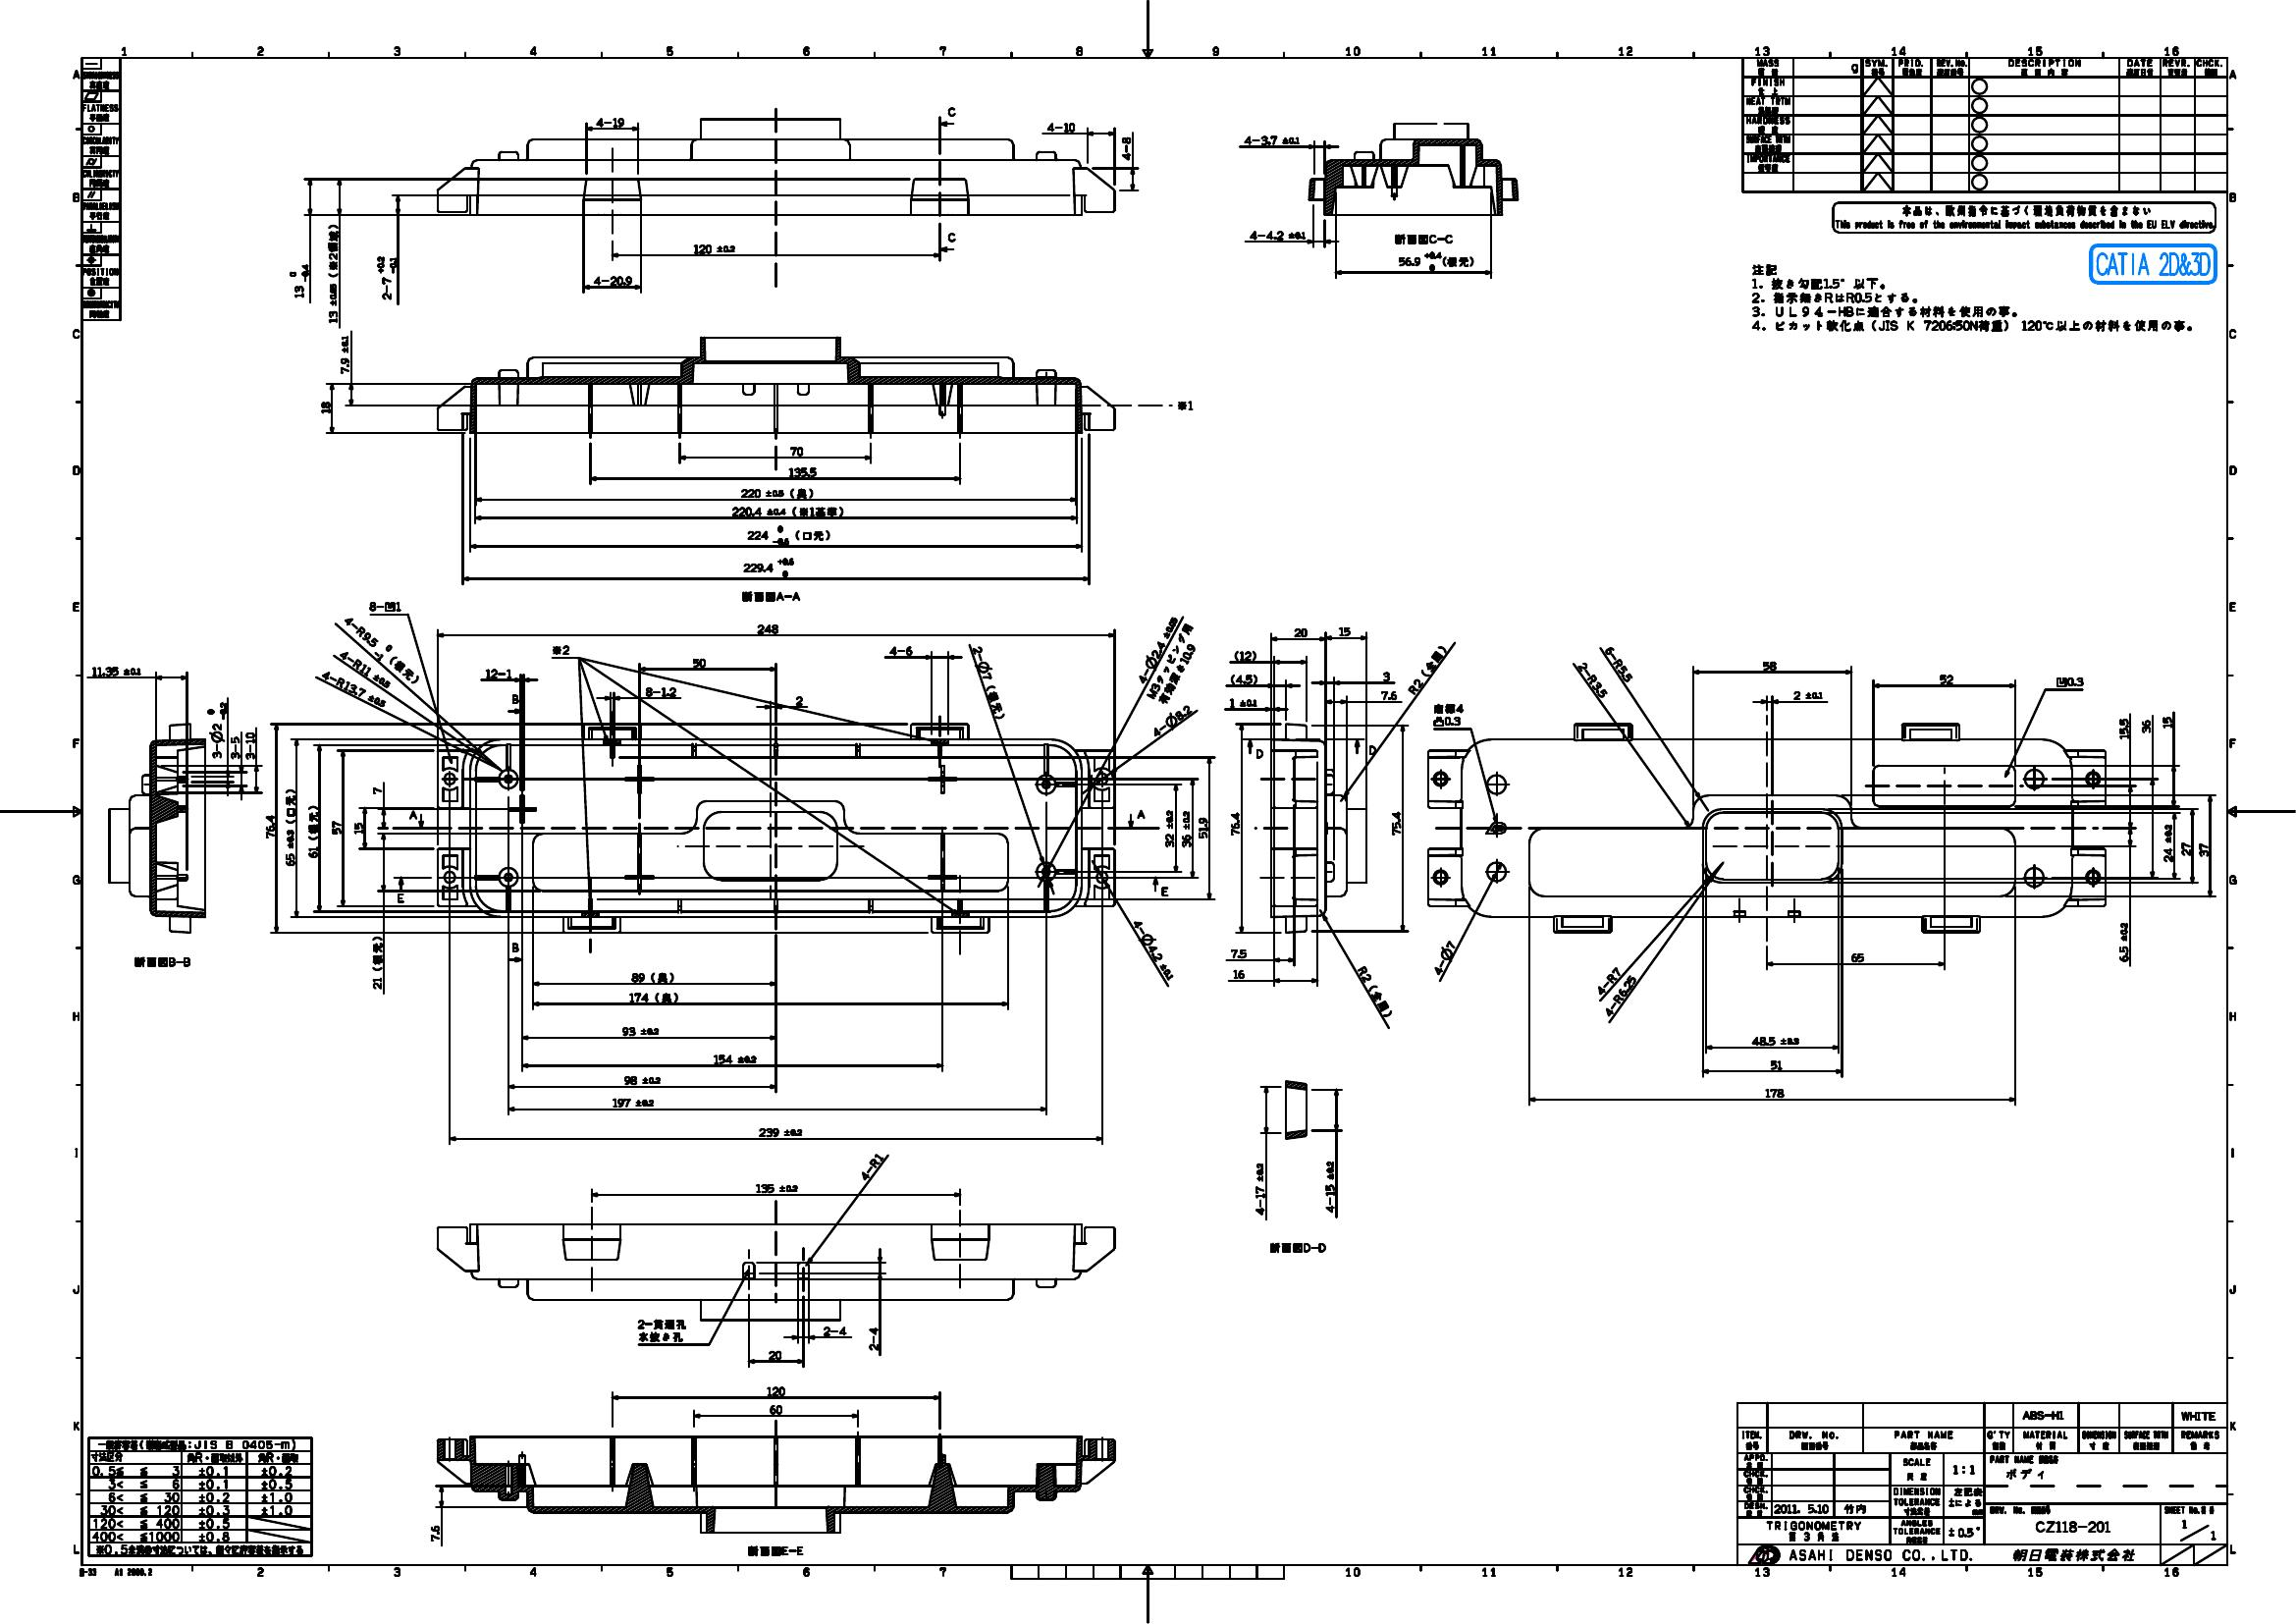anntotation_text: (1748, 262, 2196, 334), (1830, 199, 2217, 234), (2087, 243, 2219, 285), (1131, 650, 1217, 677), (632, 1318, 690, 1345), (740, 589, 805, 605), (1393, 230, 1455, 246), (76, 1566, 153, 1578), (130, 954, 191, 968), (747, 1543, 805, 1557), (1268, 1239, 1326, 1253), (1175, 397, 1198, 411), (550, 643, 571, 657), (1158, 881, 1172, 898), (1133, 807, 1147, 823), (945, 230, 959, 244), (509, 940, 522, 956), (945, 104, 957, 120), (408, 808, 420, 823), (395, 891, 406, 907), (1367, 743, 1379, 756), (511, 691, 520, 707), (1254, 747, 1265, 759)
dimension_text: (745, 522, 833, 547), (332, 638, 430, 659), (729, 503, 845, 520), (1395, 250, 1474, 272), (204, 700, 228, 759), (325, 221, 339, 325), (740, 555, 796, 580), (281, 786, 297, 866), (950, 673, 1029, 689), (738, 485, 813, 501), (1117, 940, 1189, 956), (374, 253, 397, 302), (1117, 642, 1195, 656), (316, 682, 392, 696), (1242, 132, 1302, 146), (1398, 663, 1456, 677), (690, 239, 736, 257), (1430, 703, 1465, 726), (306, 803, 320, 859), (1323, 1158, 1337, 1214), (1253, 1162, 1267, 1218), (369, 935, 383, 991), (288, 262, 309, 299), (1149, 714, 1196, 729), (608, 1093, 655, 1109), (1748, 1033, 1801, 1048), (1346, 984, 1405, 997), (629, 968, 675, 984), (627, 990, 678, 1004), (1247, 228, 1305, 241), (336, 664, 397, 675), (1597, 657, 1643, 671), (711, 1053, 757, 1067), (1595, 990, 1646, 1002), (90, 664, 141, 677), (1425, 949, 1463, 965), (590, 272, 632, 286), (1572, 671, 1614, 685), (2117, 919, 2131, 961), (620, 1074, 662, 1088), (755, 1127, 803, 1139), (2161, 823, 2175, 863), (1179, 808, 1193, 847), (617, 1025, 661, 1037), (337, 334, 350, 376), (1163, 808, 1175, 849), (367, 599, 402, 613), (643, 684, 678, 698), (785, 464, 819, 478), (1592, 974, 1625, 988), (754, 1183, 798, 1193), (594, 114, 625, 128), (1792, 687, 1823, 701), (483, 666, 513, 680), (1228, 696, 1258, 710), (1045, 120, 1077, 132), (856, 1160, 887, 1172), (1117, 135, 1131, 162), (866, 1325, 880, 1352), (1228, 671, 1258, 684), (1390, 808, 1402, 838), (887, 643, 915, 656), (1226, 810, 1240, 835), (2055, 675, 2083, 687), (244, 729, 255, 759), (228, 735, 241, 759), (1231, 649, 1256, 661), (1196, 816, 1209, 840), (2117, 715, 2129, 740), (822, 1325, 847, 1338), (764, 1385, 787, 1397), (264, 814, 274, 840), (754, 622, 780, 633), (329, 817, 343, 837), (1379, 687, 1398, 701), (1758, 657, 1778, 671), (1764, 1086, 1785, 1098), (2157, 714, 2173, 729), (318, 397, 332, 415), (766, 1403, 783, 1417), (1936, 671, 1955, 684), (764, 1348, 783, 1360), (350, 819, 364, 835), (2196, 842, 2210, 858), (789, 445, 806, 457), (1230, 947, 1247, 960), (2140, 717, 2152, 735), (2180, 840, 2192, 858), (1848, 951, 1866, 963), (429, 1526, 441, 1543), (1231, 967, 1245, 981), (1767, 1058, 1783, 1070), (692, 656, 706, 668), (1293, 626, 1307, 638), (792, 694, 805, 707), (1337, 626, 1351, 636), (1381, 668, 1391, 682), (371, 784, 381, 796)
object: (1425, 721, 2108, 935), (436, 721, 1117, 935), (436, 1432, 1117, 1536), (434, 334, 1117, 434), (434, 1222, 1117, 1322), (436, 116, 1117, 216), (105, 719, 207, 935), (1307, 120, 1521, 218), (1267, 719, 1349, 935), (1282, 1077, 1309, 1142)
title_block: (1734, 1403, 2229, 1568), (1739, 56, 2231, 193), (86, 1434, 314, 1559), (79, 56, 121, 323)
